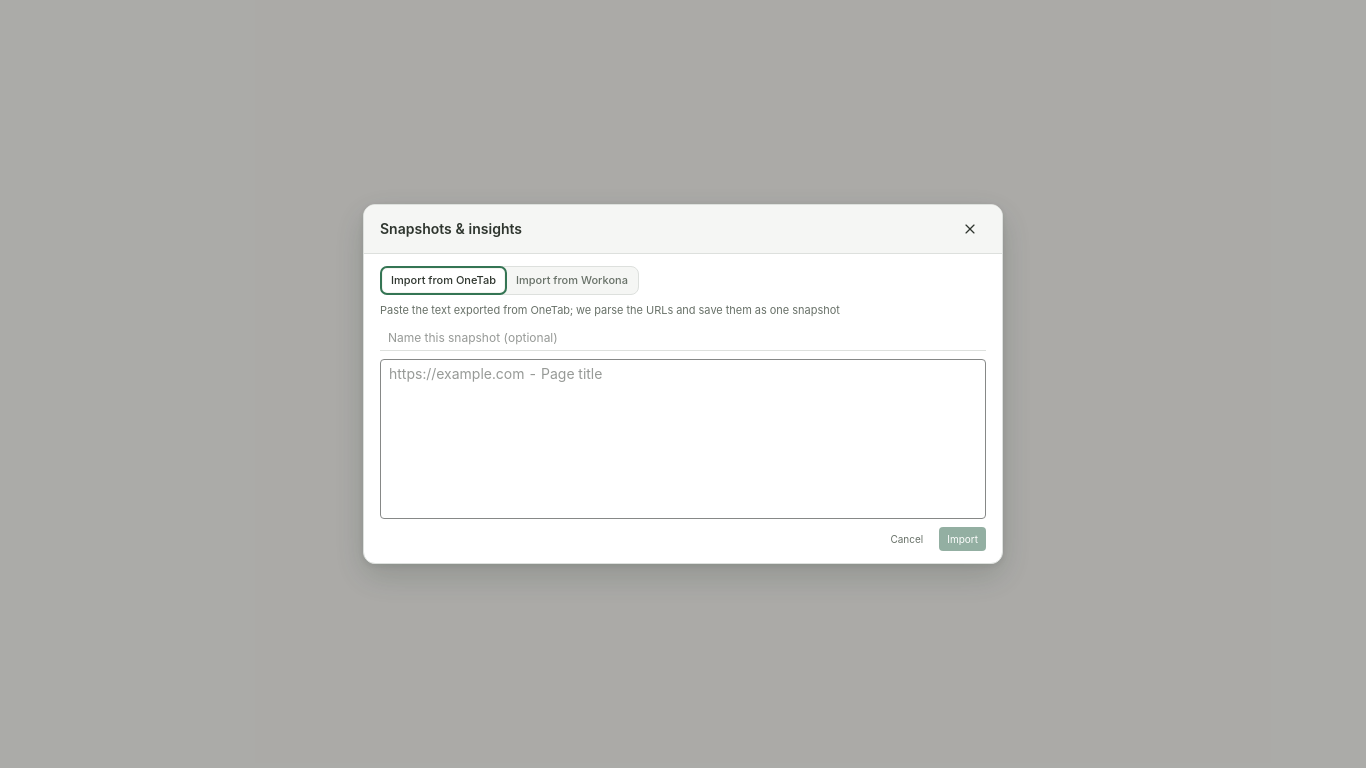
Scenario: SnapshotsPanel 导入在途互斥（P1-2） › 导入写入期间连点只提交一次，按钮给出进行中反馈
The image size is (1366, 768).
填入文本让「导入」按钮可用（空文本时按钮禁用）
Type "https://example.com - Example" into the text box named "Import" at (683, 439), box 380,359 -> 986,519
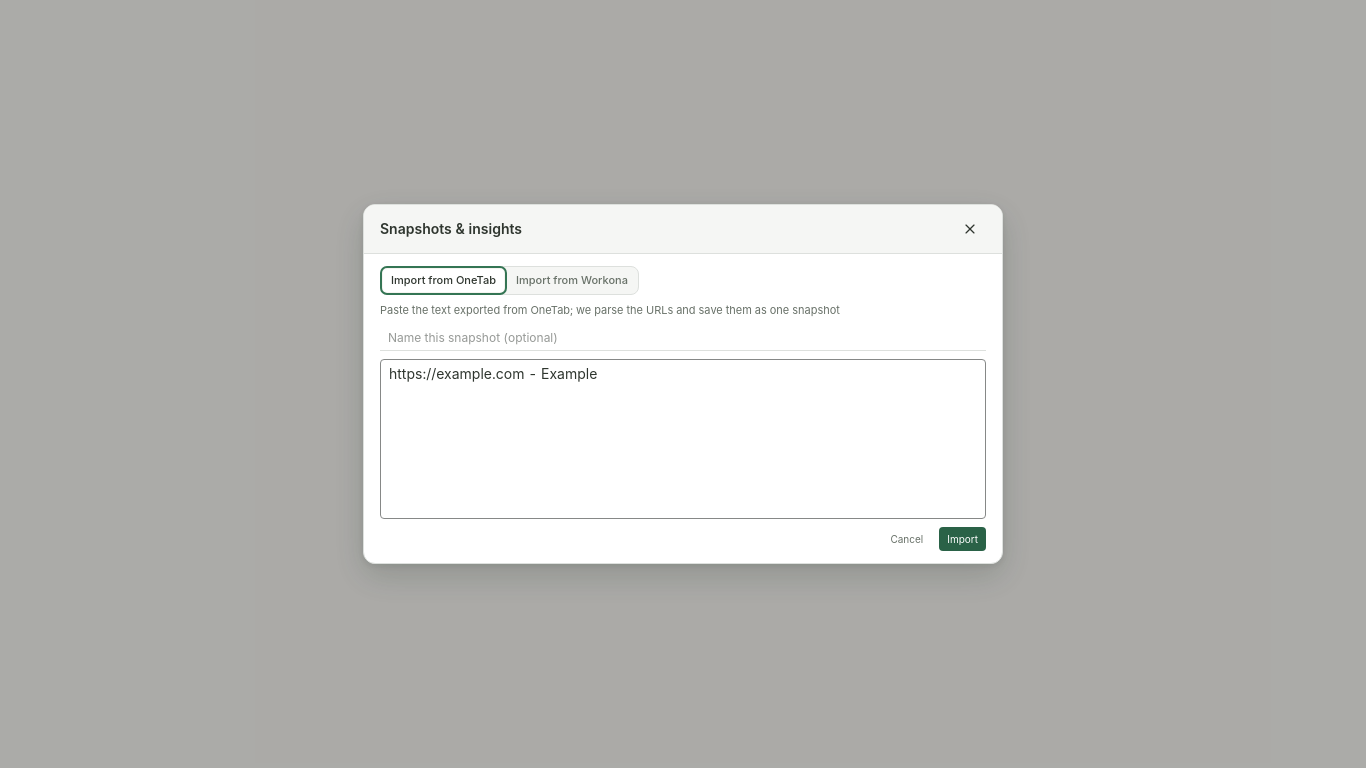
在途连点两次「导入」
Click the button "Import" at (963, 539), box 939,527 -> 986,551
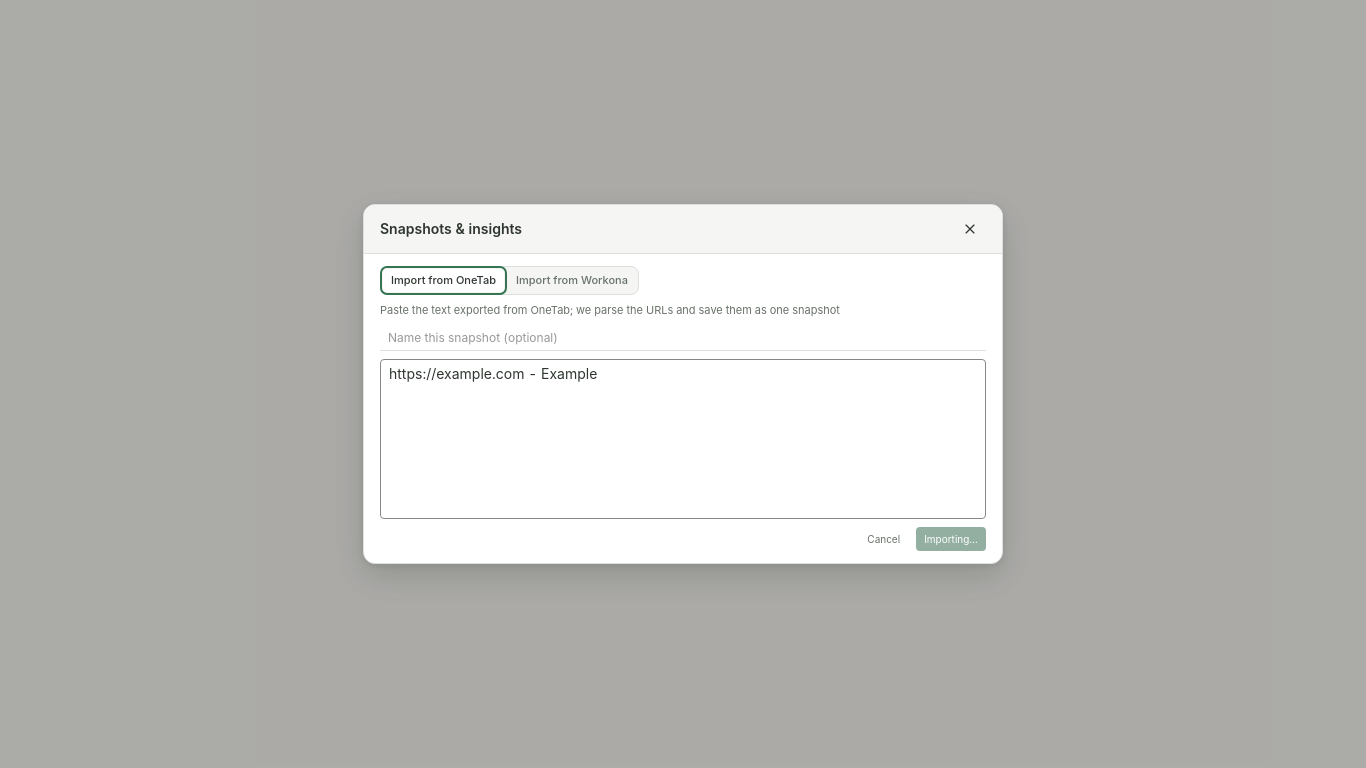
Expected: the button "Importing…" is disabled
Click the button "Importing…" at (951, 539), box 916,527 -> 986,551
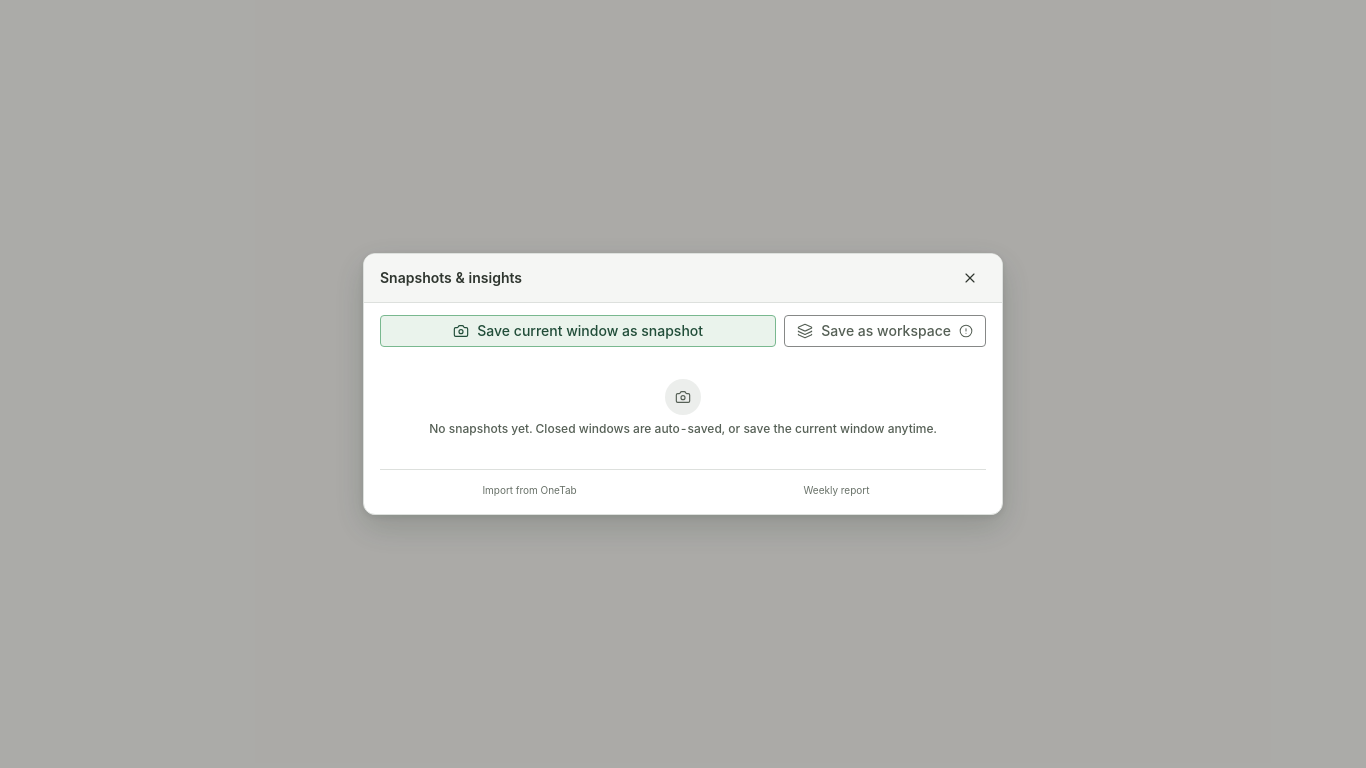
Expected: the button "Importing…" is gone
